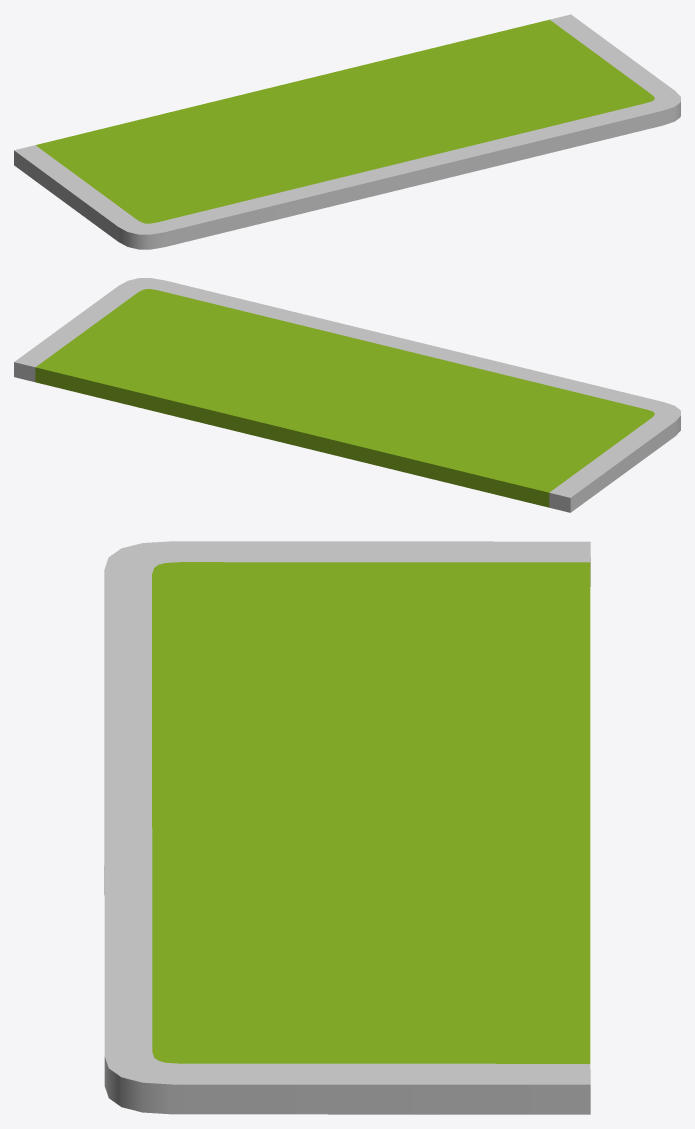
Rendered from grassfield01_s02.FBX.
3 views of the same model, one above another, from view 1: azimuth 30°, elevation 25°; view 2: azimuth 150°, elevation 25°; view 3: azimuth 270°, elevation 25° (orthographic). The views are drawn at different scales.
Parts seen in each view (by area): view 1: grassfield01_s02; view 2: grassfield01_s02; view 3: grassfield01_s02.
Part boxes in pixels (<box>): grassfield01_s02: <box>14,14,680,249</box>; grassfield01_s02: <box>14,278,680,512</box>; grassfield01_s02: <box>104,541,590,1114</box>.
Size of the model in its own units: 948 by 359 by 24.44.
Materials: 1 (1 with a texture image).
